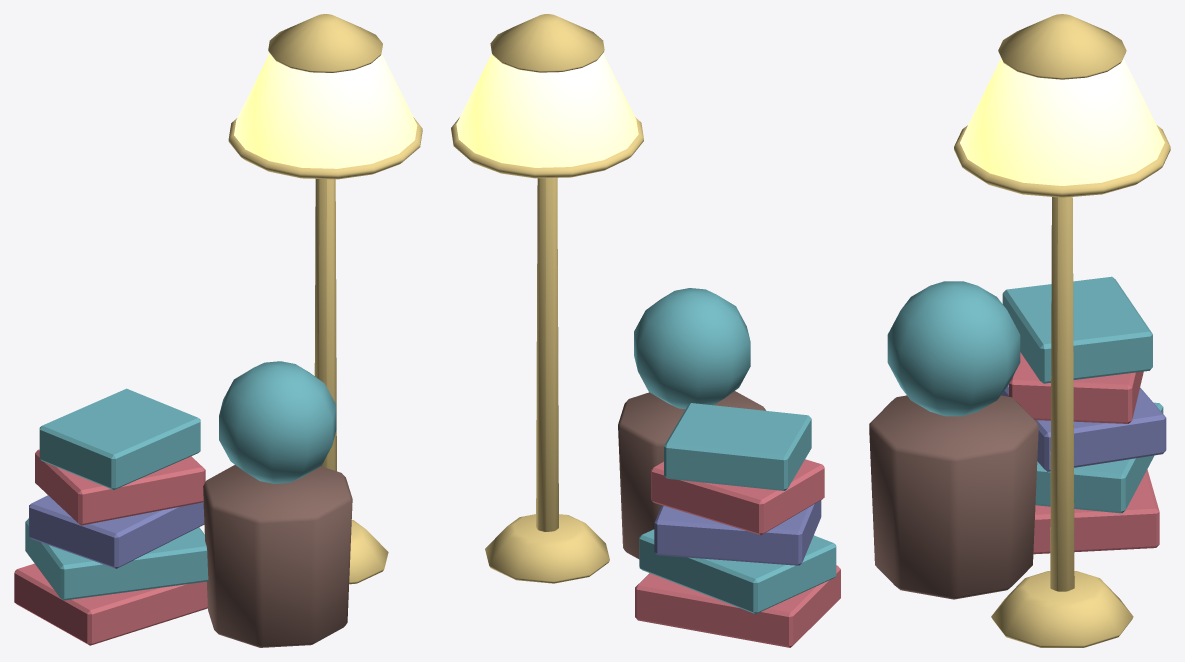
Rendered from w5_reading_cluster.glb.
3 renders of one model, left to right at view 1: azimuth 30°, elevation 25°; view 2: azimuth 150°, elevation 25°; view 3: azimuth 270°, elevation 25°, orthographic. The views are drawn at different scales.
Visible parts, largest first — view 1: Book_1, Stool, LampShade, Book_0, LampBase, Book_2; view 2: Book_1, LampBase, LampShade, Book_0, Stool, Book_2; view 3: Stool, Book_1, LampBase, LampShade, Book_0, Book_2.
Part boxes in pixels (<box>): Book_1: <box>25,361,336,600</box>; Stool: <box>203,465,352,647</box>; LampShade: <box>234,53,417,168</box>; Book_0: <box>14,449,207,645</box>; LampBase: <box>228,14,422,584</box>; Book_2: <box>29,495,204,568</box>; Book_1: <box>634,288,836,614</box>; LampBase: <box>451,14,643,583</box>; LampShade: <box>456,53,638,167</box>; Book_0: <box>635,459,840,647</box>; Stool: <box>618,391,766,559</box>; Book_2: <box>654,500,821,565</box>; Stool: <box>869,395,1038,599</box>; Book_1: <box>887,276,1163,513</box>; LampBase: <box>954,14,1170,647</box>; LampShade: <box>960,58,1164,185</box>; Book_0: <box>1009,352,1159,554</box>; Book_2: <box>1001,384,1166,471</box>.
Size of the model in its own units: 1.5 by 2.14 by 0.9737.
